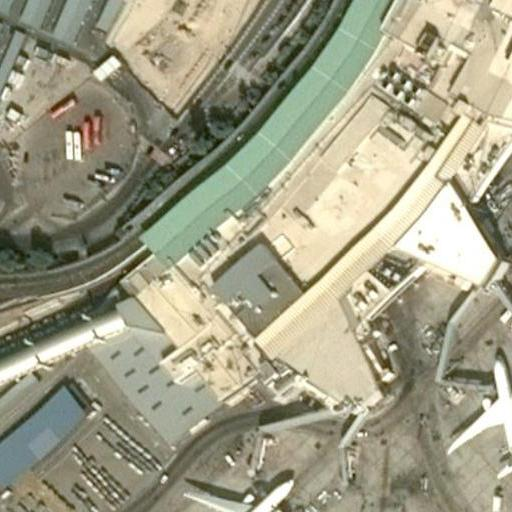Aircraft: (446, 347, 512, 481), (194, 478, 303, 512)
